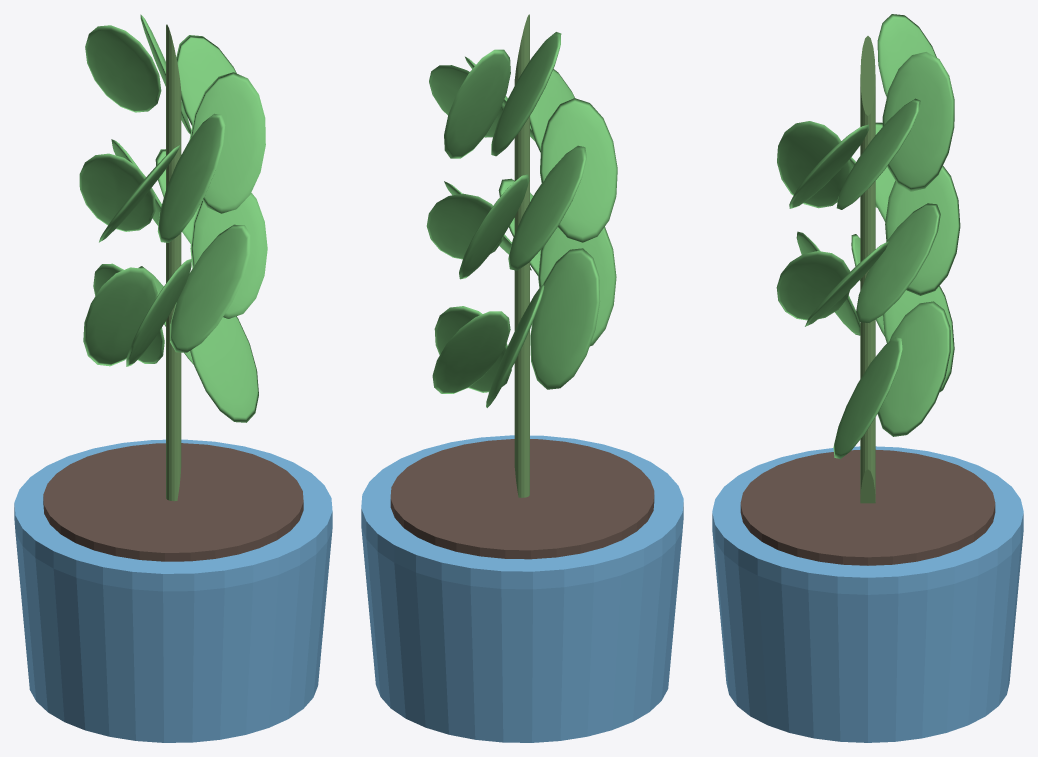
3 renders of one model, left to right at view 1: azimuth 30°, elevation 25°; view 2: azimuth 150°, elevation 25°; view 3: azimuth 270°, elevation 25°, orthographic. The views are drawn at different scales.
Size of the model in its own units: 0.33 by 0.7538 by 0.33.
